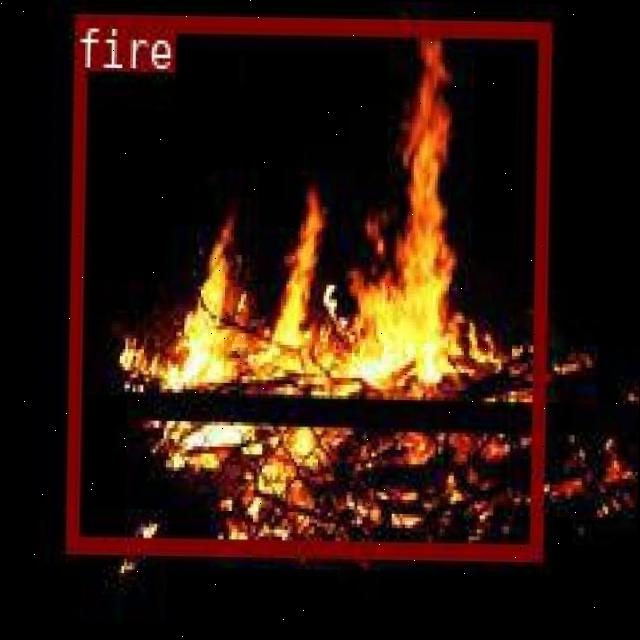fire: (63, 13, 549, 558)
